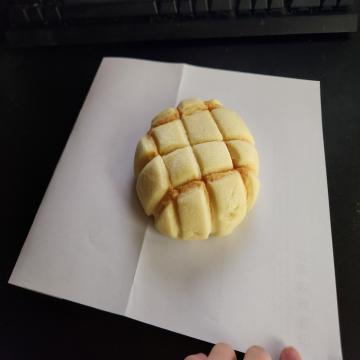melon_bread: (131, 98, 261, 243)
